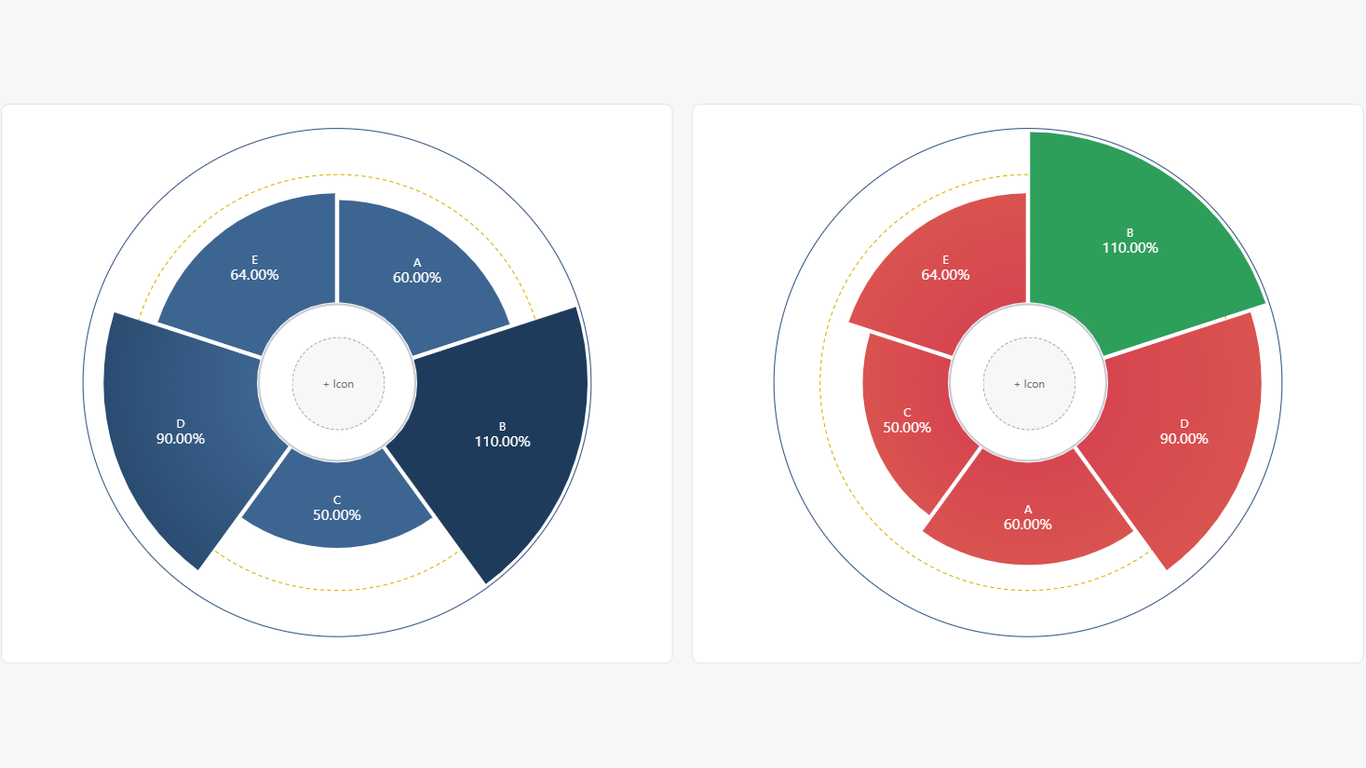

What the dashboard file says about the page in this screenshot:
{"tool":"powerbi","page":{"name":"Página 1","canvas":[1920,1080],"ordinal":0},"visuals":[{"type":"tableEx","fields":{"Values":["Values.Category","Avg(Values.%Value)"]},"box":[1487.3,71,388.9,474.6],"z":1},{"type":"radialKpiWheelAE0F93CEBEB34221A86B1DC1CFE01DE7","fields":{"values":["Values.A","Values.B","Values.C","Values.D","Values.E"]},"box":[44.2,82.9,665.3,553.8],"z":2},{"type":"radialKpiWheelAE0F93CEBEB34221A86B1DC1CFE01DE7","fields":{"values":["Values.B","Values.D","Values.A","Values.C","Values.E"]},"box":[728,82.9,665.3,553.8],"z":3}]}

Visuals, with their boxes in screenshot pixels (x1, y1, x2, y2), scaled from the page's 1920x1080 canvas onto the 1366x768 screenshot:
tableEx - Values.Category x Avg(Values.%Value): [left=1058, top=50, right=1335, bottom=388]
radialKpiWheelAE0F93CEBEB34221A86B1DC1CFE01DE7 - Values.A x Values.B: [left=31, top=59, right=505, bottom=453]
radialKpiWheelAE0F93CEBEB34221A86B1DC1CFE01DE7 - Values.B x Values.D: [left=518, top=59, right=991, bottom=453]
